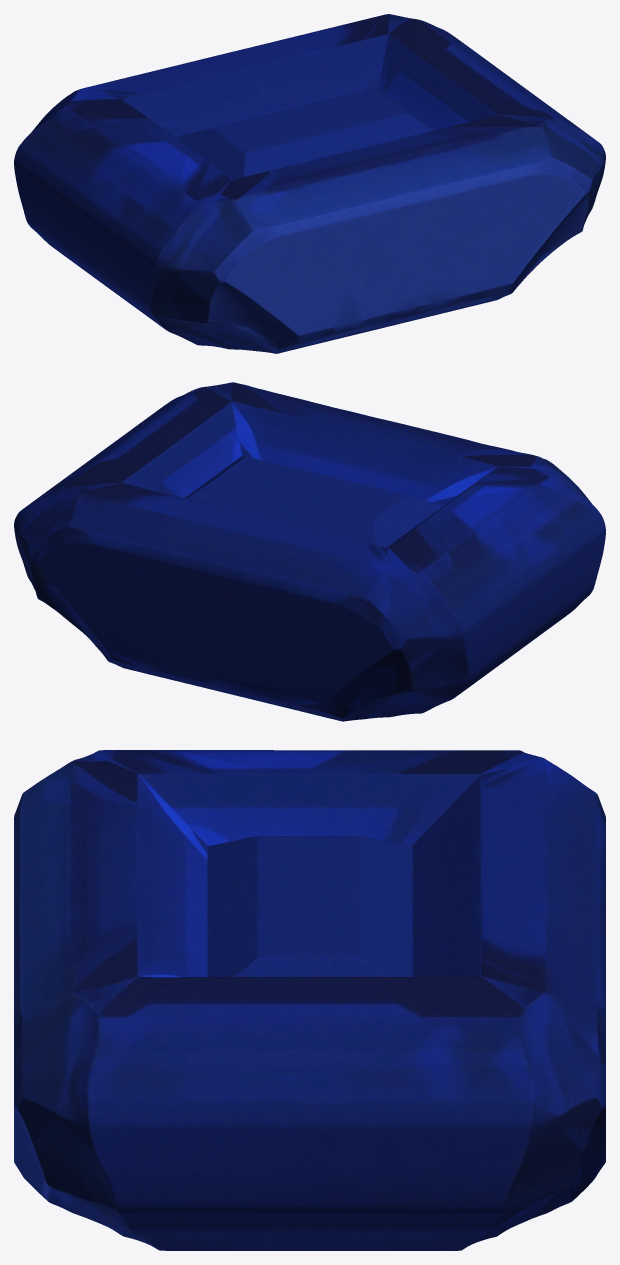
Rendered from Safira.glb.
3 renders of one model, top to bottom at view 1: azimuth 30°, elevation 25°; view 2: azimuth 150°, elevation 25°; view 3: azimuth 270°, elevation 25°, orthographic. The views are drawn at different scales.
Bounding box in the file's own units: 1.9 × 0.6646 × 1.4.
1 material, 1 textured.
